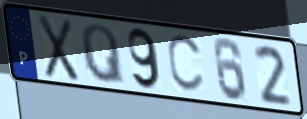2: (251, 44, 294, 106)
6: (212, 35, 248, 103)
9: (125, 26, 162, 92)
C: (165, 34, 206, 95)
Q: (79, 22, 128, 87)
X: (36, 12, 81, 84)
